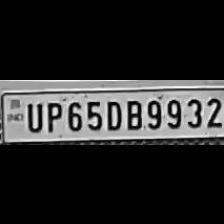2: (202, 93, 222, 127)
3: (183, 94, 201, 128)
5: (85, 96, 103, 130)
6: (64, 97, 82, 130)
9: (162, 94, 182, 128), (144, 96, 162, 128)
B: (124, 95, 142, 129)
D: (104, 96, 122, 130)
P: (42, 98, 62, 132)
U: (22, 98, 44, 132)
